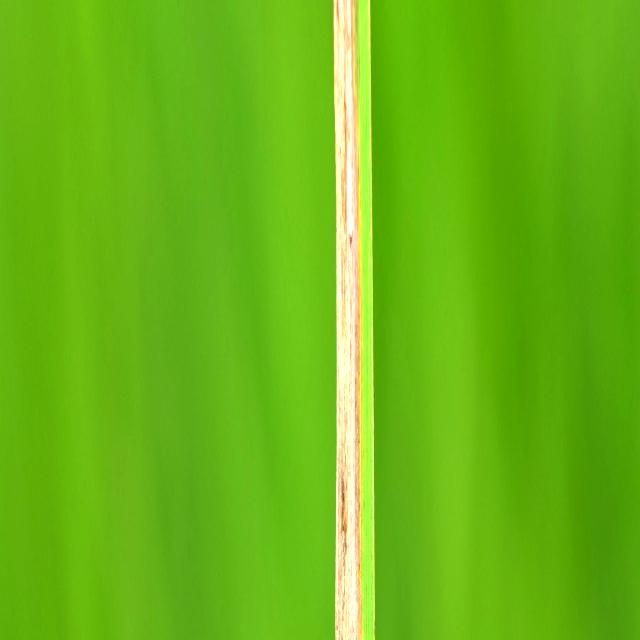BLB: (333, 0, 362, 640)
